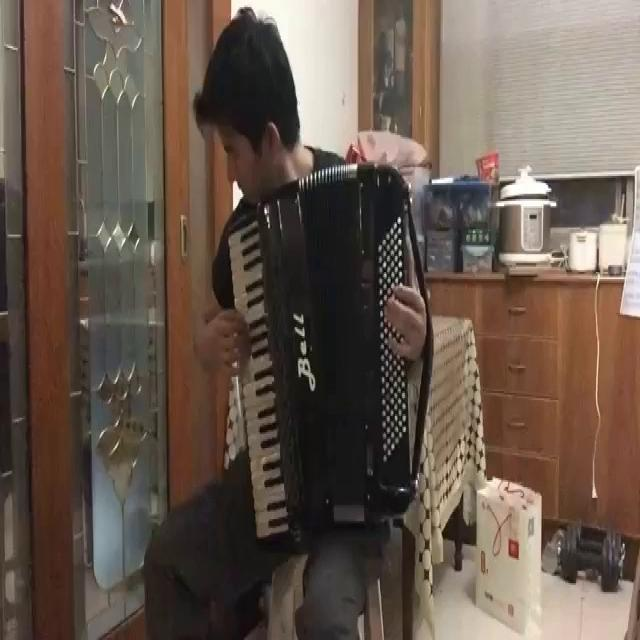Accordion: (222, 140, 433, 557)
